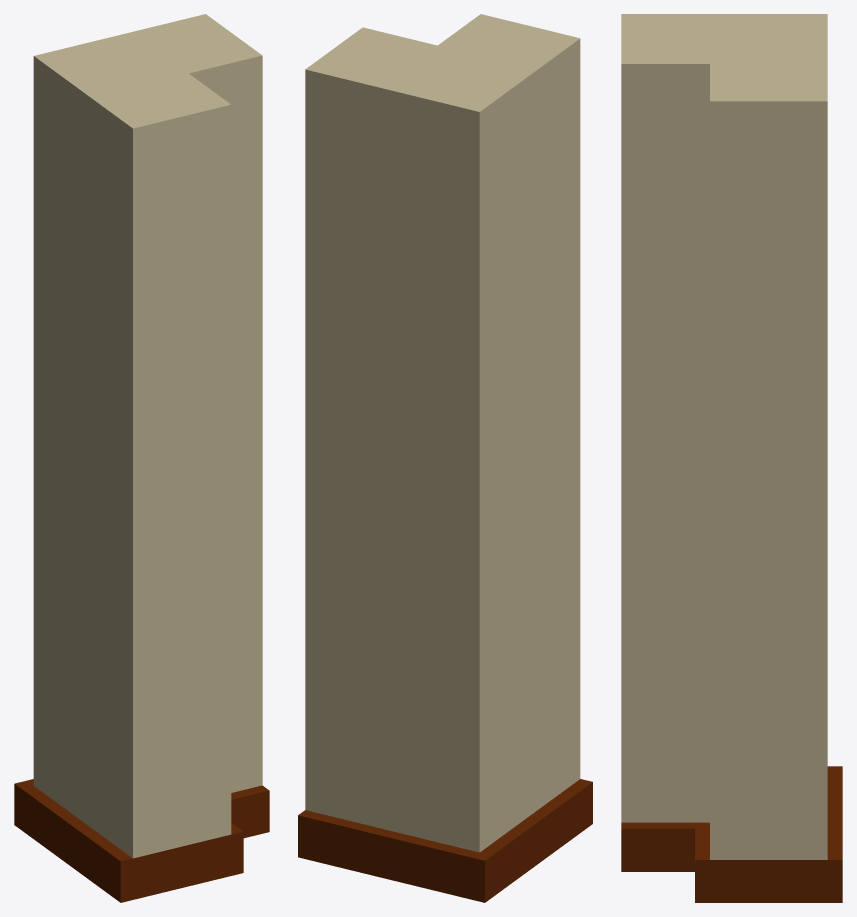
Rendered from Mesh_Wall_Corner.fbx.
3 views of the same model, side by side, from view 1: azimuth 30°, elevation 25°; view 2: azimuth 150°, elevation 25°; view 3: azimuth 270°, elevation 25° (orthographic). The views are drawn at different scales.
Visible parts, largest first — view 1: Wall_Corner; view 2: Wall_Corner; view 3: Wall_Corner.
Part boxes in pixels (left/top/right/bottom): Wall_Corner: left=14, top=14, right=269, bottom=902; Wall_Corner: left=298, top=14, right=592, bottom=902; Wall_Corner: left=621, top=14, right=842, bottom=902.
Bounding box in the file's own units: 15 × 60 × 15.
